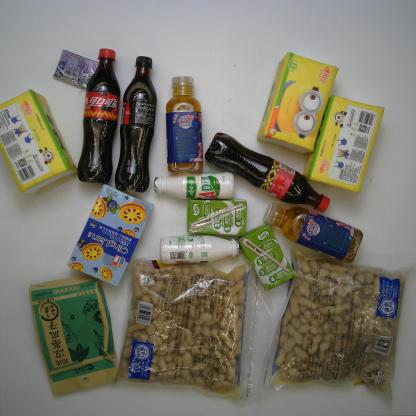Dessert: (66, 183, 156, 288)
Dried Food: (255, 241, 416, 411), (115, 257, 275, 408), (28, 274, 120, 398)
Drink: (204, 131, 331, 213), (262, 202, 365, 264), (113, 54, 158, 194), (76, 47, 121, 186), (164, 74, 205, 174)
Gum: (52, 48, 99, 90)
Milk: (237, 223, 297, 293), (158, 234, 242, 266), (185, 197, 249, 238), (153, 170, 236, 200)
Tissue: (256, 51, 340, 156), (0, 88, 78, 197), (302, 94, 386, 194)
